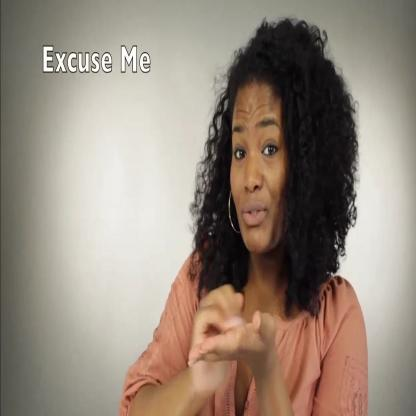ExcuseMe: (134, 15, 369, 416)
